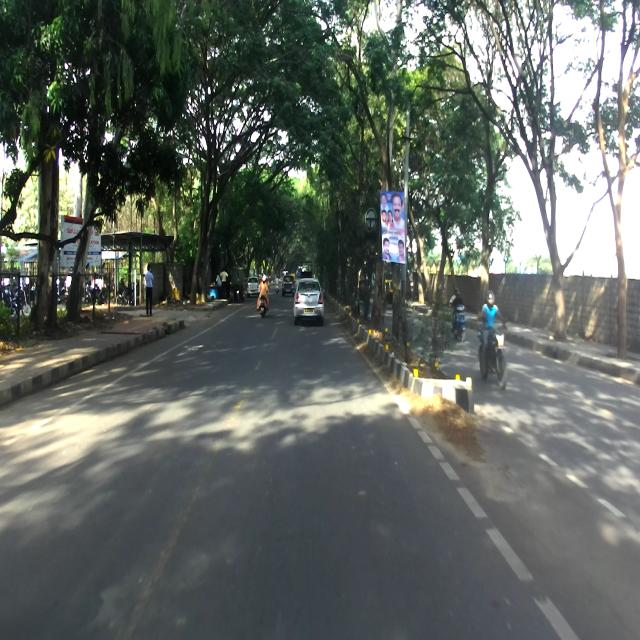car ahead at: (292, 273, 326, 326)
